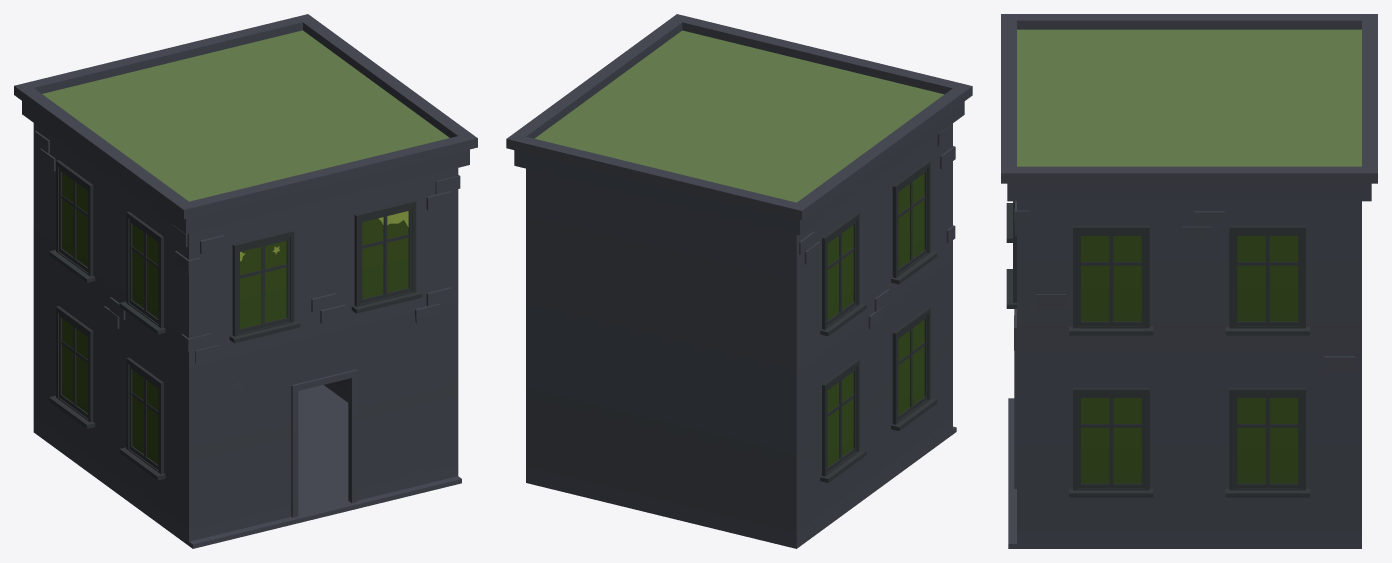
Rendered from House_10.fbx.
3 renders of one model, left to right at view 1: azimuth 30°, elevation 25°; view 2: azimuth 150°, elevation 25°; view 3: azimuth 270°, elevation 25°, orthographic. The views are drawn at different scales.
Visible parts, largest first — view 1: House_10; view 2: House_10; view 3: House_10.
Part boxes in pixels (left/top/right/bottom): House_10: left=14, top=14, right=477, bottom=548; House_10: left=506, top=14, right=972, bottom=548; House_10: left=1001, top=14, right=1377, bottom=548.
Size of the model in its own units: 4.92 by 5.51 by 4.92.
